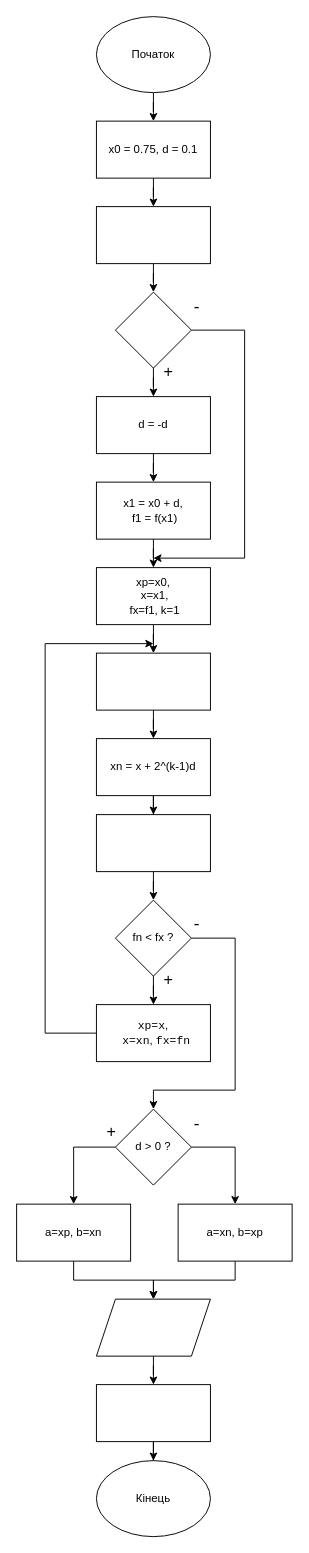
Some shapes in this 309 by 1553 pixel diagram are drawn without their labels. Here are the shapes that lost their labels. From the top down, the centre of each, then its label:
[152,235]: f0 = f(x0), x1 = x0 + d, f1 = f(x1)
[152,329]: f1 >= f0 ?
[152,681]: k = k + 1
[152,843]: fn = f(xn)
[152,1327]: [a; b]
[152,1413]: L = b - a
